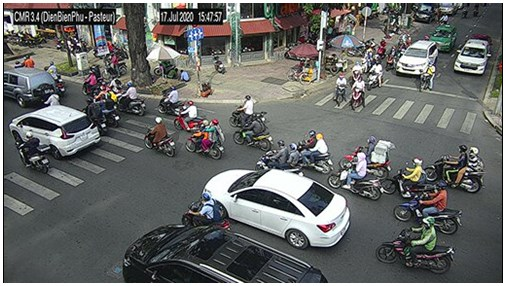xe_hoi: (123, 224, 329, 283), (201, 169, 351, 249), (9, 105, 100, 158), (4, 67, 56, 106), (397, 40, 439, 75), (453, 39, 491, 75), (429, 26, 457, 52)
xe_may: (375, 216, 457, 274), (392, 180, 463, 233), (423, 144, 486, 193), (327, 152, 383, 201), (338, 136, 391, 178), (384, 158, 436, 195), (296, 128, 333, 173), (232, 113, 273, 151), (187, 119, 224, 159), (18, 132, 51, 174), (257, 140, 298, 173), (144, 116, 176, 157), (229, 94, 266, 129), (157, 84, 186, 116), (119, 82, 145, 116), (174, 101, 203, 130), (83, 98, 106, 133), (101, 52, 128, 79), (103, 94, 122, 129), (350, 77, 366, 109), (81, 69, 99, 97), (368, 60, 384, 91), (420, 62, 435, 93), (333, 72, 346, 106), (350, 59, 363, 82), (54, 72, 66, 96), (386, 47, 397, 71), (399, 30, 410, 48), (22, 54, 35, 69), (377, 37, 386, 56), (439, 15, 449, 26), (461, 5, 468, 19)
